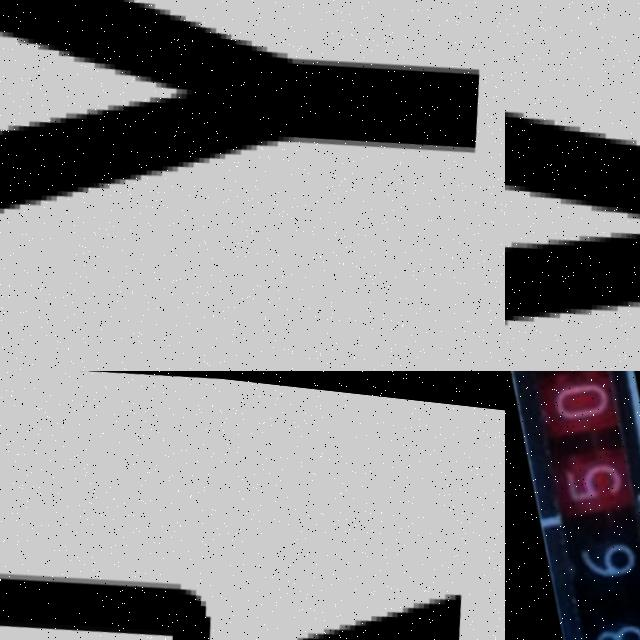0: (550, 371, 614, 424)
3: (590, 609, 640, 640)
5: (562, 449, 632, 504)
6: (576, 527, 640, 582)
R: (0, 531, 482, 640)
V: (505, 43, 640, 371)
Y: (0, 0, 501, 269)
